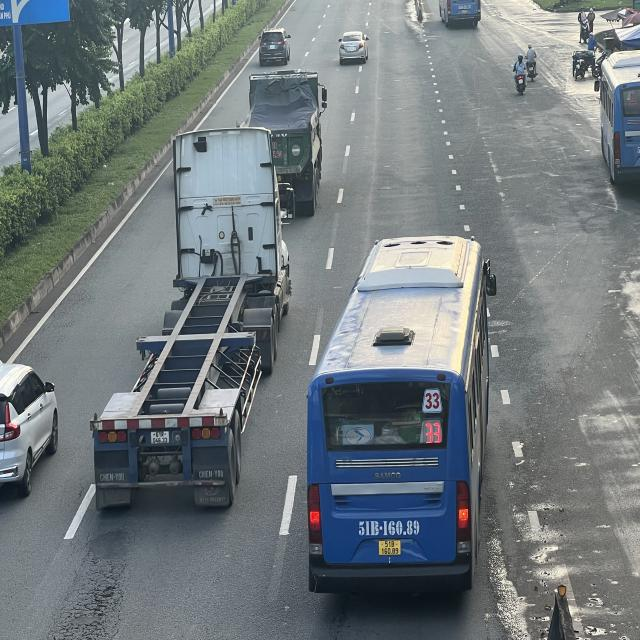car: (0, 362, 56, 495), (260, 26, 293, 65), (338, 30, 370, 64)
coach: (310, 238, 497, 595), (599, 50, 640, 186)
container: (98, 125, 293, 503), (246, 70, 329, 218)
